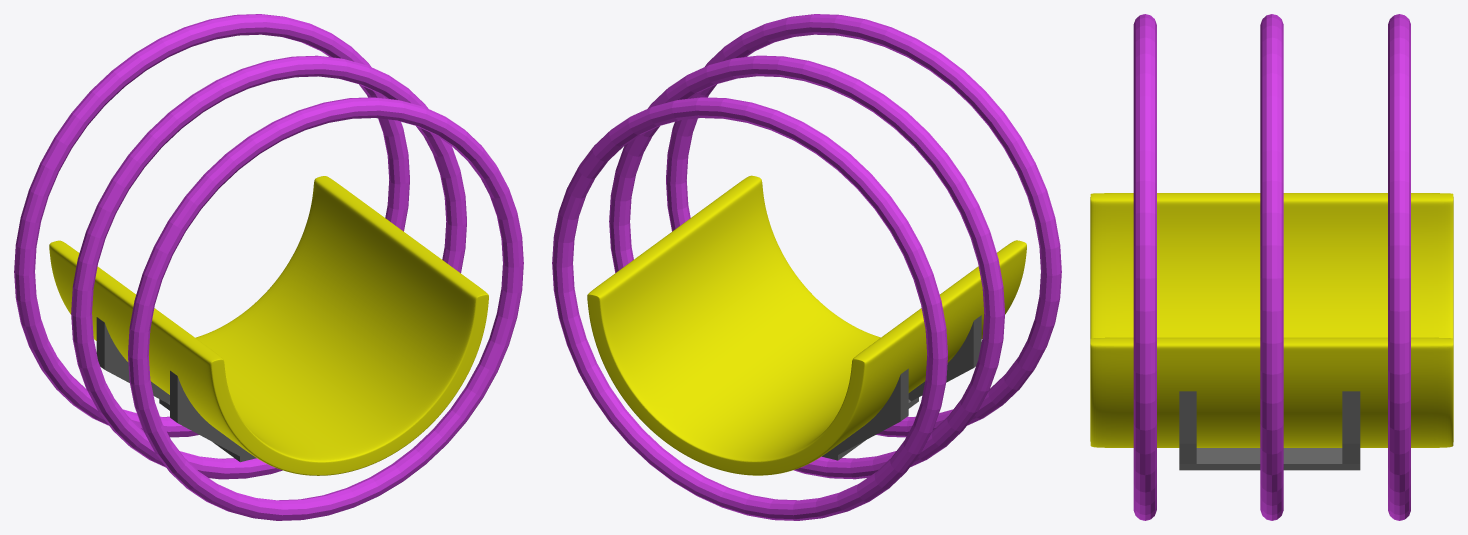
Rendered from pipe accel.fbx.
3 renders of one model, left to right at view 1: azimuth 30°, elevation 25°; view 2: azimuth 150°, elevation 25°; view 3: azimuth 270°, elevation 25°, orthographic. The views are drawn at different scales.
Visible parts, largest first — view 1: pipe, front, middle, back, block; view 2: pipe, back, middle, front, block; view 3: pipe, front, middle, back, block.
Part boxes in pixels (left/top/right/bottom): pipe: left=49, top=176, right=488, bottom=475; front: left=128, top=97, right=523, bottom=520; middle: left=71, top=55, right=466, bottom=479; back: left=14, top=14, right=409, bottom=437; block: left=96, top=317, right=256, bottom=462; pipe: left=587, top=175, right=1026, bottom=475; back: left=552, top=97, right=947, bottom=520; middle: left=609, top=55, right=1004, bottom=479; front: left=666, top=14, right=1061, bottom=437; block: left=822, top=315, right=981, bottom=460; pipe: left=1090, top=193, right=1453, bottom=447; front: left=1133, top=14, right=1156, bottom=520; middle: left=1260, top=14, right=1283, bottom=520; back: left=1388, top=14, right=1410, bottom=520; block: left=1179, top=391, right=1360, bottom=470.
Size of the model in its own units: 140 by 140 by 99.9.
